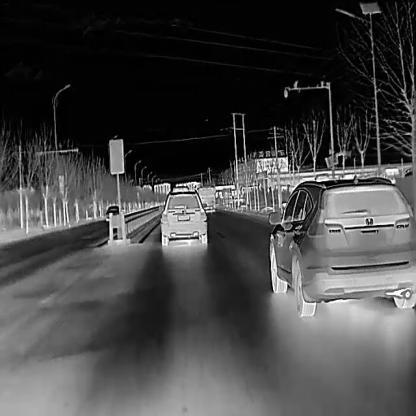car: (267, 172, 416, 316), (159, 187, 206, 245), (197, 186, 214, 213), (106, 204, 123, 220)
